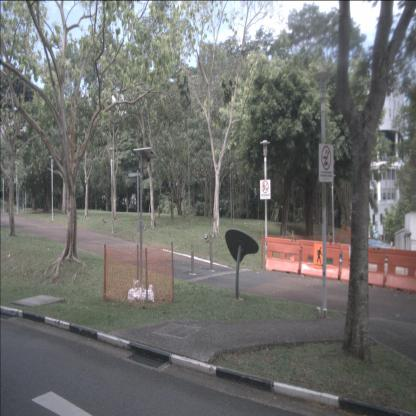movable_object-barrier: (340, 243, 386, 288), (300, 240, 342, 280), (265, 237, 302, 275), (384, 248, 416, 291)
